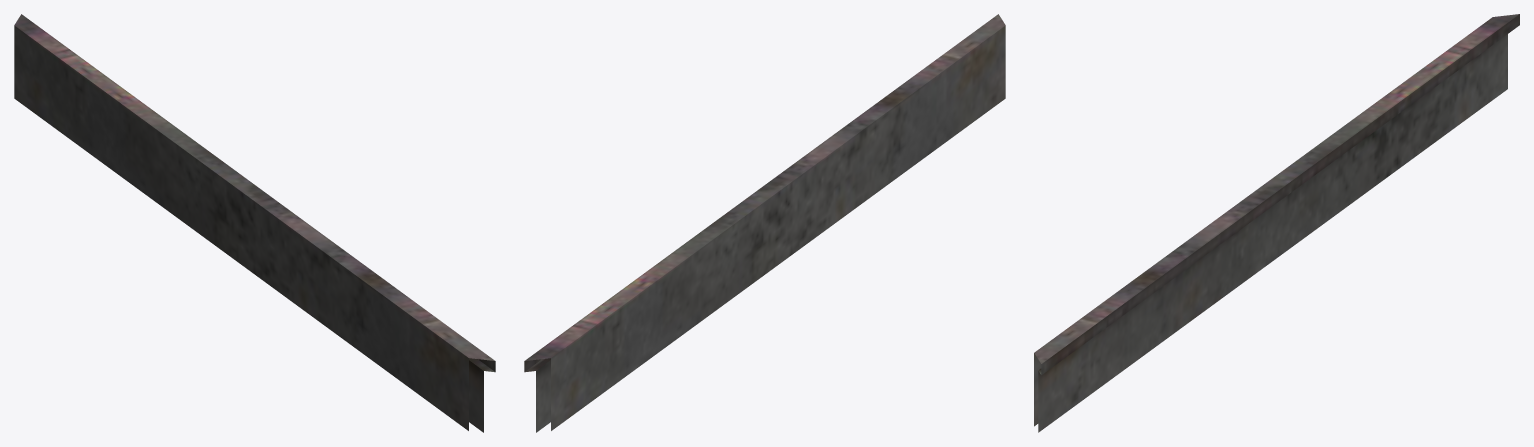
Rendered from RoofWall_04.FBX.
3 views of the same model, side by side, from view 1: azimuth 30°, elevation 25°; view 2: azimuth 150°, elevation 25°; view 3: azimuth 330°, elevation 25° (orthographic).
Visible parts, largest first — view 1: RoofWall_04; view 2: RoofWall_04; view 3: RoofWall_04.
Boxes of the visible parts, box(x1,y1,x2,y2) form: RoofWall_04: box(14, 14, 495, 432); RoofWall_04: box(524, 14, 1005, 432); RoofWall_04: box(1034, 14, 1519, 432).
Size of the model in its own units: 22.66 by 92.93 by 1092.
